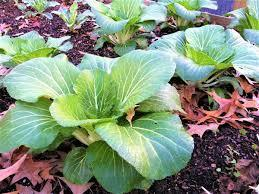Healthy-Pechay: (3, 51, 186, 190), (149, 25, 256, 86), (91, 0, 152, 38), (152, 1, 238, 21), (0, 31, 49, 59), (10, 170, 57, 193), (8, 80, 53, 102), (78, 52, 117, 72), (55, 1, 80, 29), (39, 133, 68, 153), (0, 87, 14, 112), (26, 0, 49, 13), (93, 36, 107, 51), (15, 2, 27, 11)
